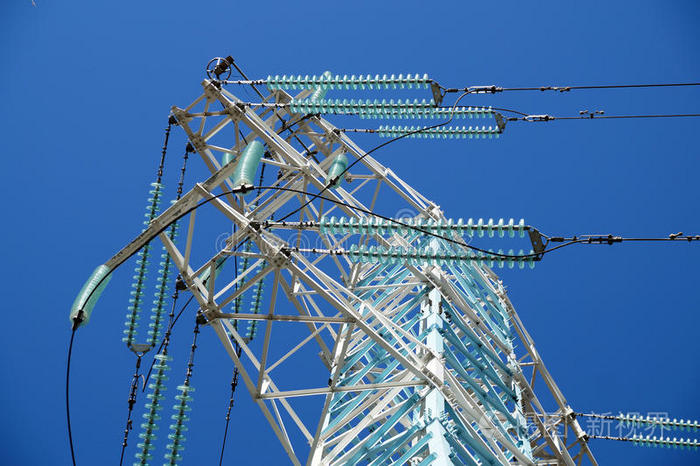insulator: (122, 179, 164, 344), (347, 241, 536, 272), (145, 197, 183, 344), (131, 350, 174, 466), (318, 214, 526, 237), (288, 96, 495, 119), (162, 381, 200, 466), (263, 72, 430, 91), (377, 122, 502, 140), (616, 411, 700, 433), (246, 261, 269, 335), (631, 433, 700, 452), (233, 244, 249, 323)
